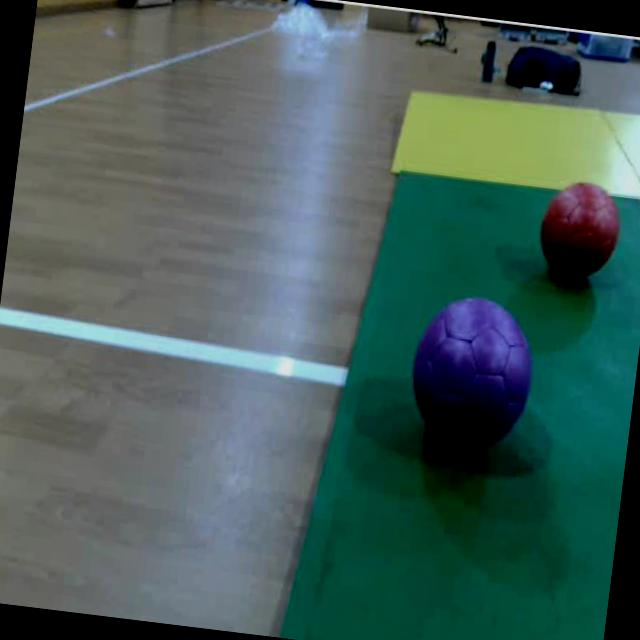purple_ball: (396, 288, 546, 464)
red_ball: (533, 177, 626, 290)
